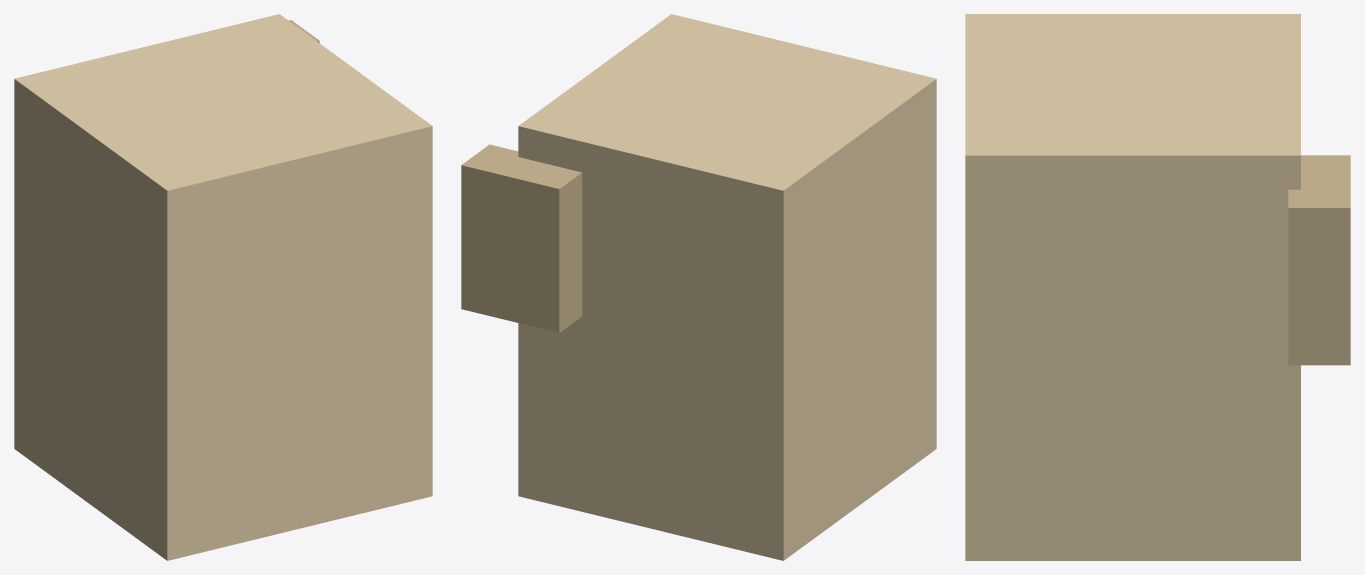
File: cacafantasma_coxa.glb
3 views of the same model, side by side, from view 1: azimuth 30°, elevation 25°; view 2: azimuth 150°, elevation 25°; view 3: azimuth 270°, elevation 25° (orthographic). The views are drawn at different scales.
Parts seen in each view (by area): view 1: cacafantasma_coxa; view 2: cacafantasma_coxa; view 3: cacafantasma_coxa.
Boxes of the visible parts, left/top/right/bottom form: cacafantasma_coxa: left=14, top=14, right=432, bottom=560; cacafantasma_coxa: left=461, top=14, right=936, bottom=560; cacafantasma_coxa: left=965, top=14, right=1350, bottom=560.
Size of the model in its own units: 0.305 by 0.36 by 0.31.
